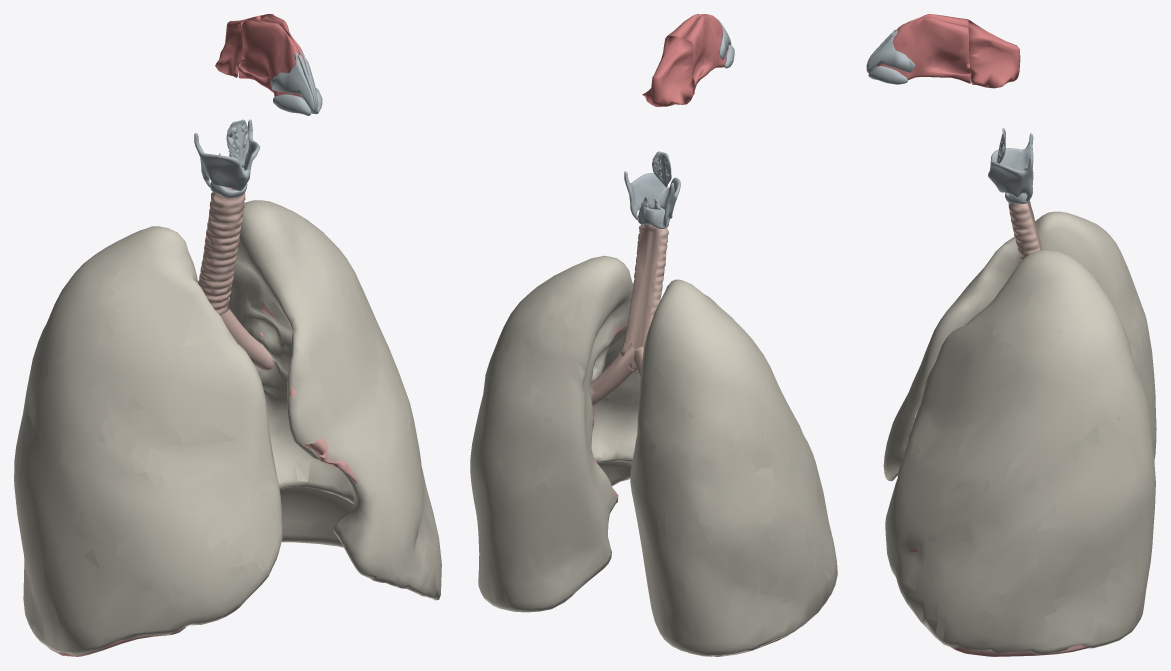
File: adult_male.respiratory.LOD1.glb
3 views of the same model, side by side, from view 1: azimuth 30°, elevation 25°; view 2: azimuth 150°, elevation 25°; view 3: azimuth 270°, elevation 25° (orthographic). The views are drawn at different scales.
Visible parts, largest first — view 1: ADULT.MALE.RESPIRATORY.PLEURA, ADULT.MALE.RESPIRATORY.TRACHEA, ADULT.MALE.RESPIRATORY.MUCOSA_OF_NASAL_CAVITY, ADULT.MALE.RESPIRATORY.THYROID_CARTILAGE, ADULT.MALE.RESPIRATORY.NASOPHARYNX, ADULT.MALE.RESPIRATORY.LEFT_MAIN_BRONCHUS, ADULT.MALE.RESPIRATORY.LATERAL_PROCESS_OF_NASAL_SEPTAL_CARTI, ADULT.MALE.RESPIRATORY.EPIGLOTTIS, ADULT.MALE.RESPIRATORY.SUPERIOR_LOBE_OF_LEFT_LUNG; view 2: ADULT.MALE.RESPIRATORY.PLEURA, ADULT.MALE.RESPIRATORY.TRACHEA, ADULT.MALE.RESPIRATORY.NASOPHARYNX, ADULT.MALE.RESPIRATORY.MUCOSA_OF_NASAL_CAVITY, ADULT.MALE.RESPIRATORY.THYROID_CARTILAGE, ADULT.MALE.RESPIRATORY.LEFT_MAIN_BRONCHUS; view 3: ADULT.MALE.RESPIRATORY.PLEURA, ADULT.MALE.RESPIRATORY.MUCOSA_OF_NASAL_CAVITY, ADULT.MALE.RESPIRATORY.NASOPHARYNX, ADULT.MALE.RESPIRATORY.THYROID_CARTILAGE, ADULT.MALE.RESPIRATORY.TRACHEA, ADULT.MALE.RESPIRATORY.LATERAL_PROCESS_OF_NASAL_SEPTAL_CARTI, ADULT.MALE.RESPIRATORY.INFERIOR_LOBE_OF_LEFT_LUNG, ADULT.MALE.RESPIRATORY.MAJOR_ALAR_CARTILAGE.L.
Boxes of the visible parts, x1,y1,x2,y2 form: ADULT.MALE.RESPIRATORY.PLEURA: (14,200,441,655); ADULT.MALE.RESPIRATORY.TRACHEA: (198,187,245,315); ADULT.MALE.RESPIRATORY.MUCOSA_OF_NASAL_CAVITY: (238,14,306,98); ADULT.MALE.RESPIRATORY.THYROID_CARTILAGE: (194,119,259,190); ADULT.MALE.RESPIRATORY.NASOPHARYNX: (215,15,262,77); ADULT.MALE.RESPIRATORY.LEFT_MAIN_BRONCHUS: (220,309,272,369); ADULT.MALE.RESPIRATORY.LATERAL_PROCESS_OF_NASAL_SEPTAL_CARTI: (270,52,314,111); ADULT.MALE.RESPIRATORY.EPIGLOTTIS: (226,119,249,167); ADULT.MALE.RESPIRATORY.SUPERIOR_LOBE_OF_LEFT_LUNG: (251,302,418,539); ADULT.MALE.RESPIRATORY.PLEURA: (470,255,837,656); ADULT.MALE.RESPIRATORY.TRACHEA: (619,224,668,370); ADULT.MALE.RESPIRATORY.NASOPHARYNX: (642,36,694,106); ADULT.MALE.RESPIRATORY.MUCOSA_OF_NASAL_CAVITY: (666,14,727,90); ADULT.MALE.RESPIRATORY.THYROID_CARTILAGE: (624,171,680,226); ADULT.MALE.RESPIRATORY.LEFT_MAIN_BRONCHUS: (590,343,634,405); ADULT.MALE.RESPIRATORY.PLEURA: (883,211,1156,654); ADULT.MALE.RESPIRATORY.MUCOSA_OF_NASAL_CAVITY: (877,14,970,83); ADULT.MALE.RESPIRATORY.NASOPHARYNX: (968,20,1020,88); ADULT.MALE.RESPIRATORY.THYROID_CARTILAGE: (988,133,1033,201); ADULT.MALE.RESPIRATORY.TRACHEA: (1008,201,1042,260); ADULT.MALE.RESPIRATORY.LATERAL_PROCESS_OF_NASAL_SEPTAL_CARTI: (866,30,915,73); ADULT.MALE.RESPIRATORY.INFERIOR_LOBE_OF_LEFT_LUNG: (950,644,1089,656); ADULT.MALE.RESPIRATORY.MAJOR_ALAR_CARTILAGE.L: (868,65,907,84).
Bounding box in the file's own units: 0.2635 × 0.4307 × 0.2003.
